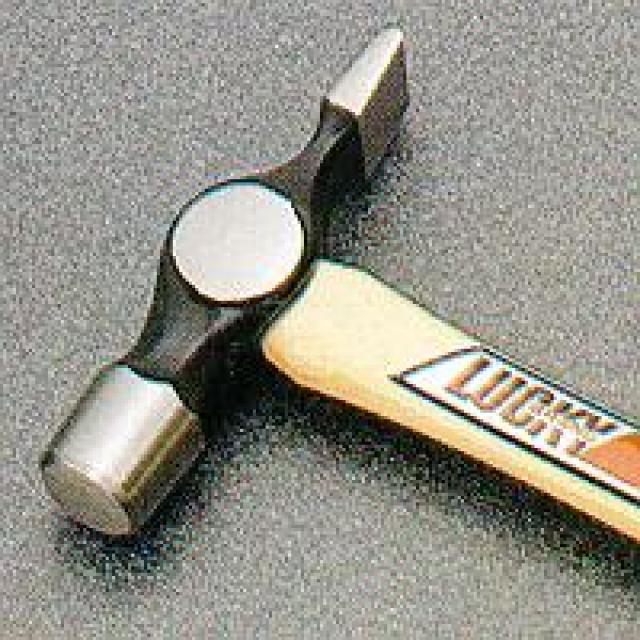hammer: (23, 14, 640, 586)
